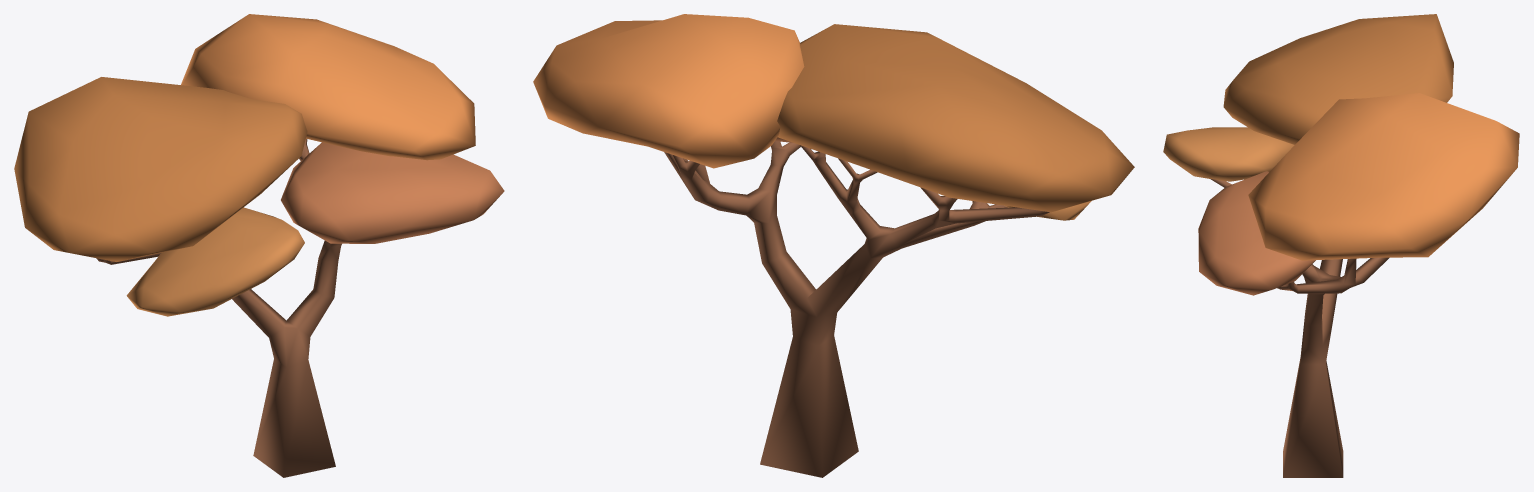
File: Acacia_Orange_2.fbx
3 renders of one model, left to right at view 1: azimuth 30°, elevation 25°; view 2: azimuth 150°, elevation 25°; view 3: azimuth 270°, elevation 25°, orthographic. The views are drawn at different scales.
Parts seen in each view (by area): view 1: Icosphere, Icosphere_004, Icosphere_006, Cube_028, Icosphere_005; view 2: Icosphere, Icosphere_004, Cube_028; view 3: Icosphere_004, Icosphere, Cube_028, Icosphere_006, Icosphere_005.
Boxes of the visible parts, left/top/right/bottom form: Icosphere: left=14, top=77, right=307, bottom=261; Icosphere_004: left=181, top=14, right=475, bottom=160; Icosphere_006: left=281, top=142, right=504, bottom=243; Cube_028: left=96, top=138, right=341, bottom=477; Icosphere_005: left=126, top=207, right=304, bottom=316; Icosphere: left=777, top=24, right=1134, bottom=212; Icosphere_004: left=533, top=14, right=804, bottom=168; Cube_028: left=664, top=141, right=1049, bottom=477; Icosphere_004: left=1248, top=93, right=1519, bottom=260; Icosphere: left=1223, top=14, right=1453, bottom=144; Cube_028: left=1210, top=179, right=1389, bottom=477; Icosphere_006: left=1198, top=171, right=1315, bottom=295; Icosphere_005: left=1163, top=127, right=1294, bottom=181.
Size of the model in its own units: 860 by 708 by 595.
